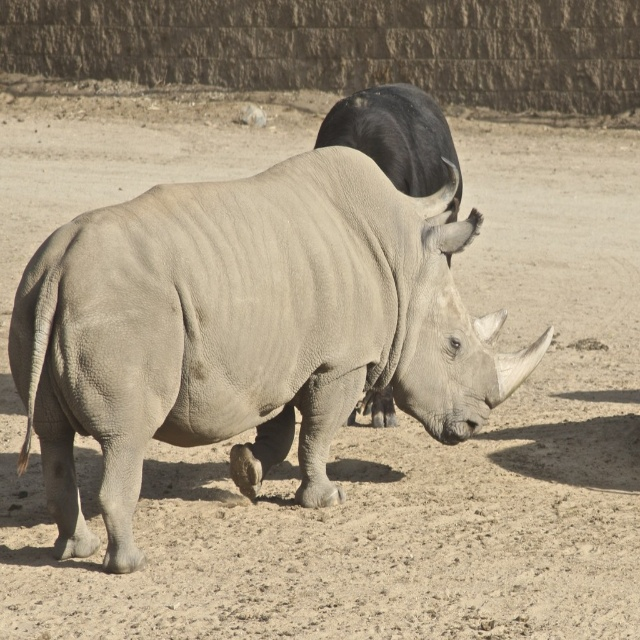Rhinoceros: (0, 139, 558, 578)
